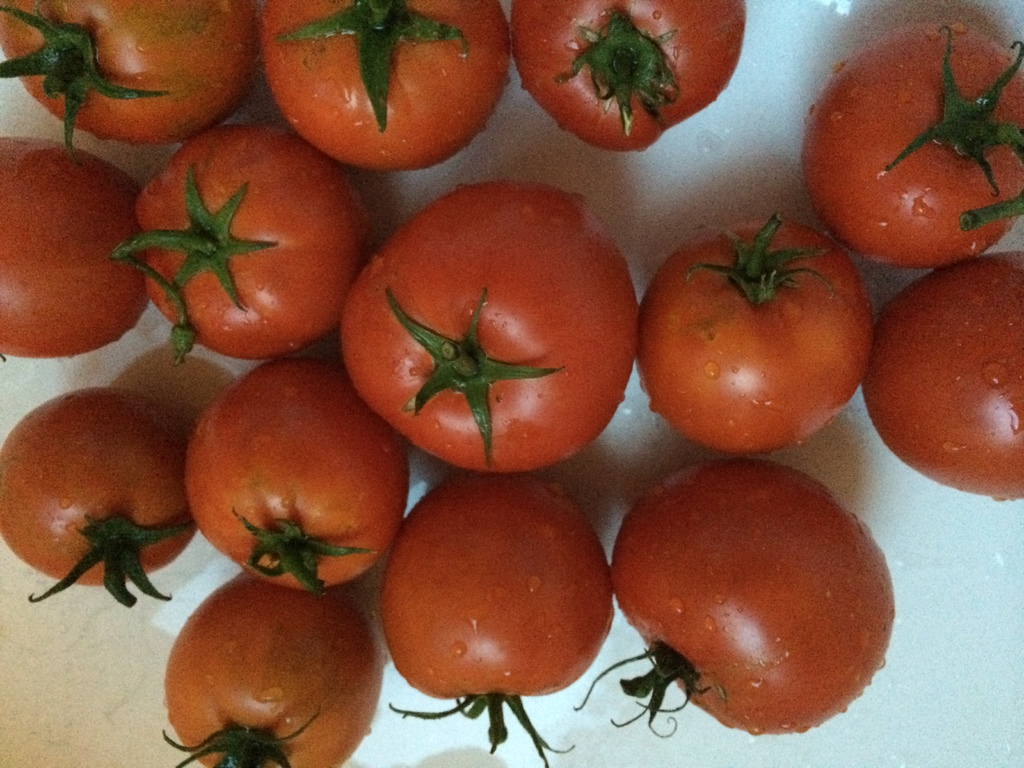Tomato: (0, 0, 1023, 767), (640, 215, 877, 459)
